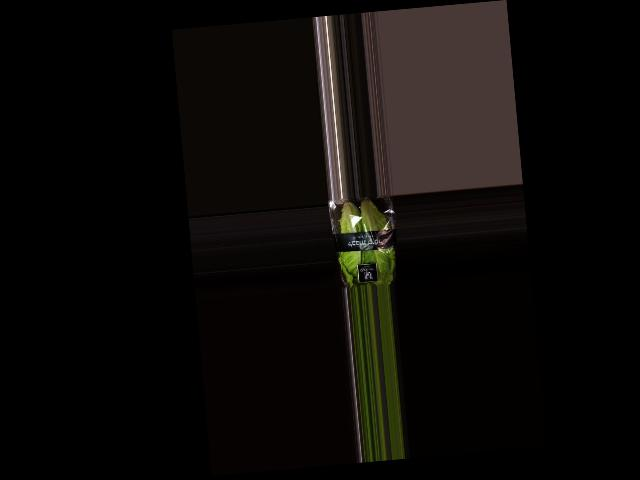lettuce: (328, 194, 396, 288)
